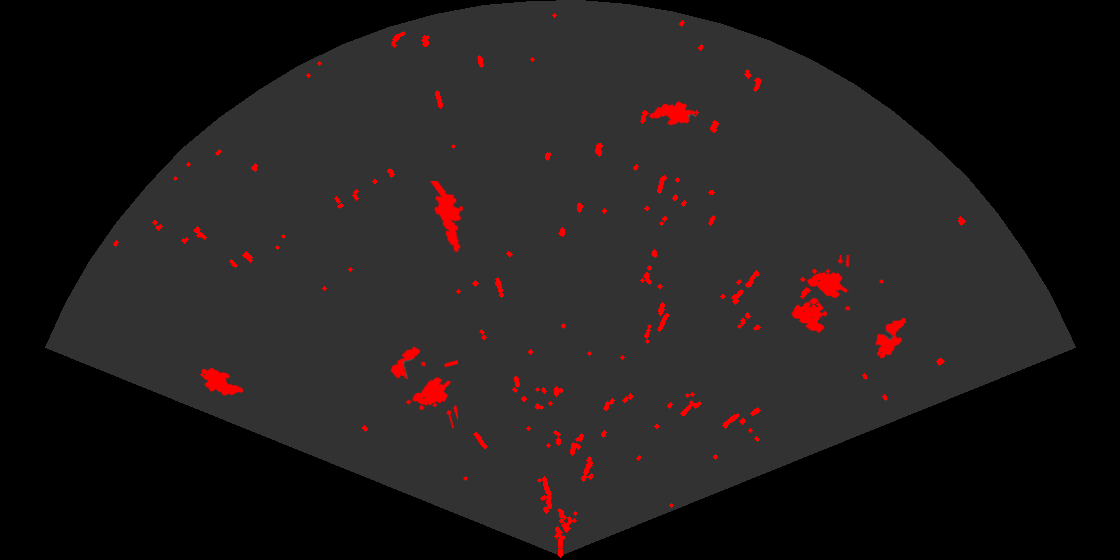AUV: (874, 316, 908, 360), (198, 366, 245, 397), (647, 100, 698, 127)
cage: (389, 345, 458, 428), (790, 255, 850, 335)
frogman: (429, 181, 465, 254)
